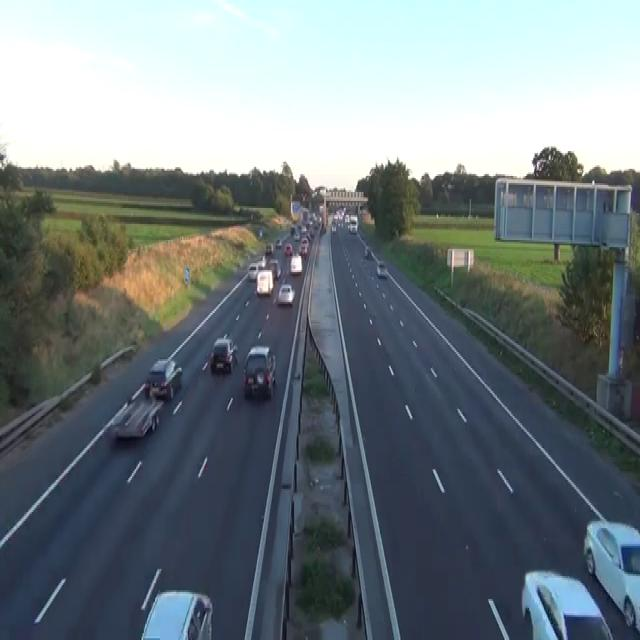Car: (582, 519, 639, 633), (521, 569, 614, 638), (140, 588, 212, 638), (111, 398, 163, 439), (242, 345, 276, 398), (144, 357, 182, 400), (210, 334, 238, 374), (110, 398, 133, 427), (277, 282, 295, 306), (268, 258, 281, 279), (290, 254, 302, 274), (247, 263, 258, 281), (299, 238, 308, 258), (376, 262, 387, 278), (284, 242, 293, 256), (256, 256, 266, 268), (441, 182, 455, 190), (265, 242, 273, 254), (275, 238, 282, 249), (446, 182, 455, 190), (364, 244, 369, 258), (320, 224, 326, 235), (290, 224, 296, 235), (294, 231, 300, 240), (300, 224, 306, 233), (331, 221, 336, 231), (259, 228, 262, 236)
Truck: (256, 269, 273, 295), (348, 215, 358, 233)
